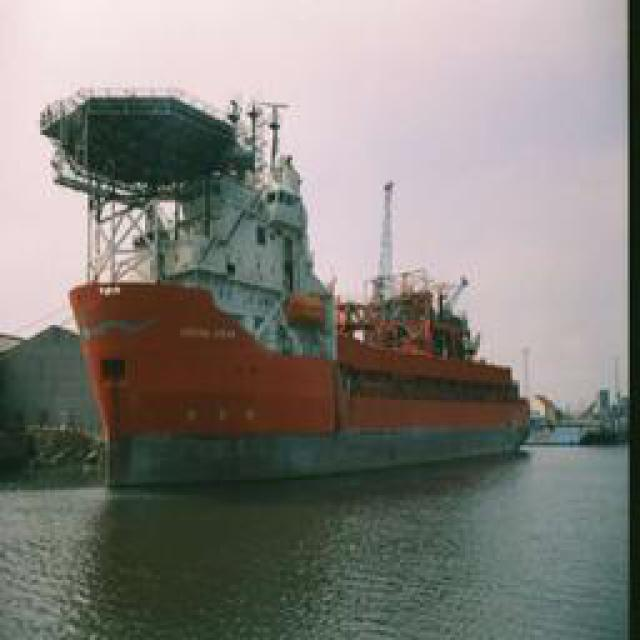Ship: (60, 251, 533, 489)
